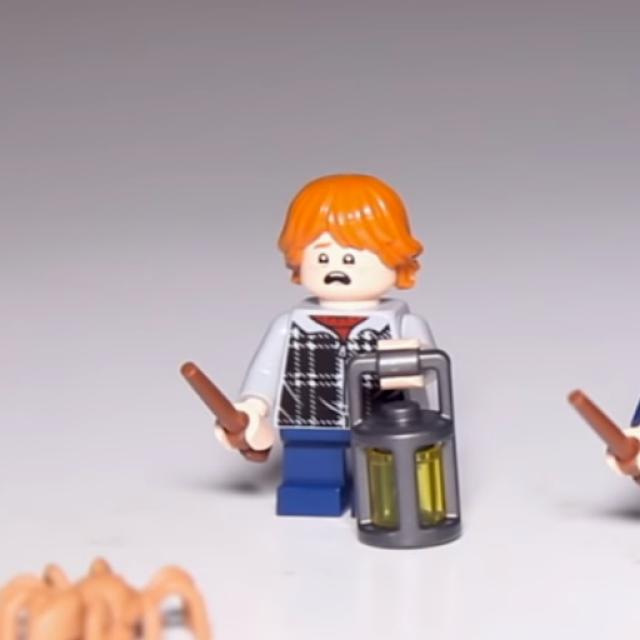Lego-Minifigures: (150, 134, 488, 568)
